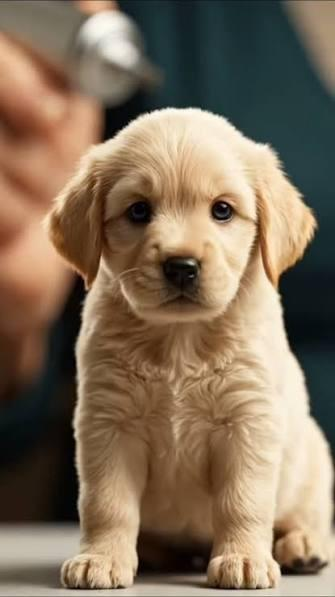puppy-dog: (47, 105, 334, 589)
